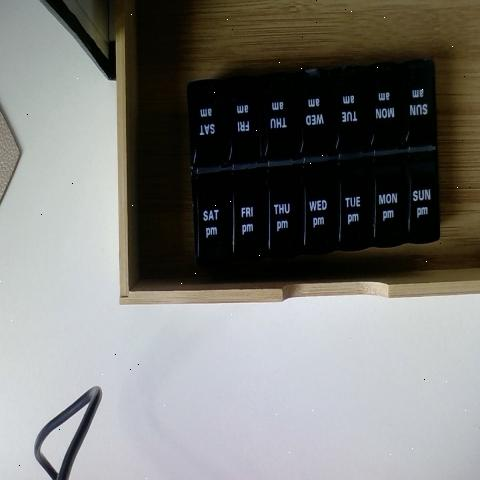FRI-am: (228, 75, 262, 163)
FRI-pm: (229, 168, 264, 253)
MON-am: (369, 66, 403, 156)
MON-pm: (366, 162, 404, 245)
SAT-am: (189, 81, 230, 169)
SAT-pm: (194, 171, 229, 263)
SUN-am: (403, 62, 437, 160)
SUN-pm: (403, 160, 438, 244)
THU-am: (262, 67, 296, 159), (337, 68, 368, 158)
THU-pm: (267, 162, 303, 258)
TUE-pm: (337, 165, 372, 247)
WED-am: (296, 67, 333, 155)
WED-pm: (301, 161, 337, 253)
